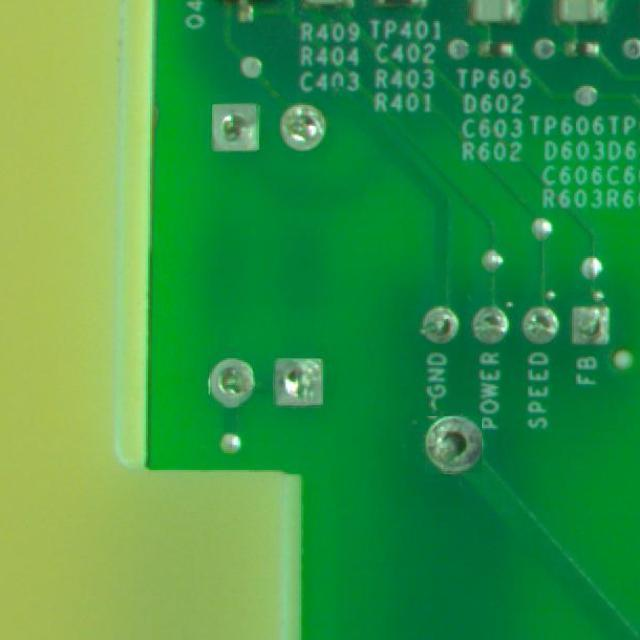low_solder: (425, 417, 482, 473), (274, 359, 322, 406), (213, 105, 258, 150), (209, 359, 253, 405)
